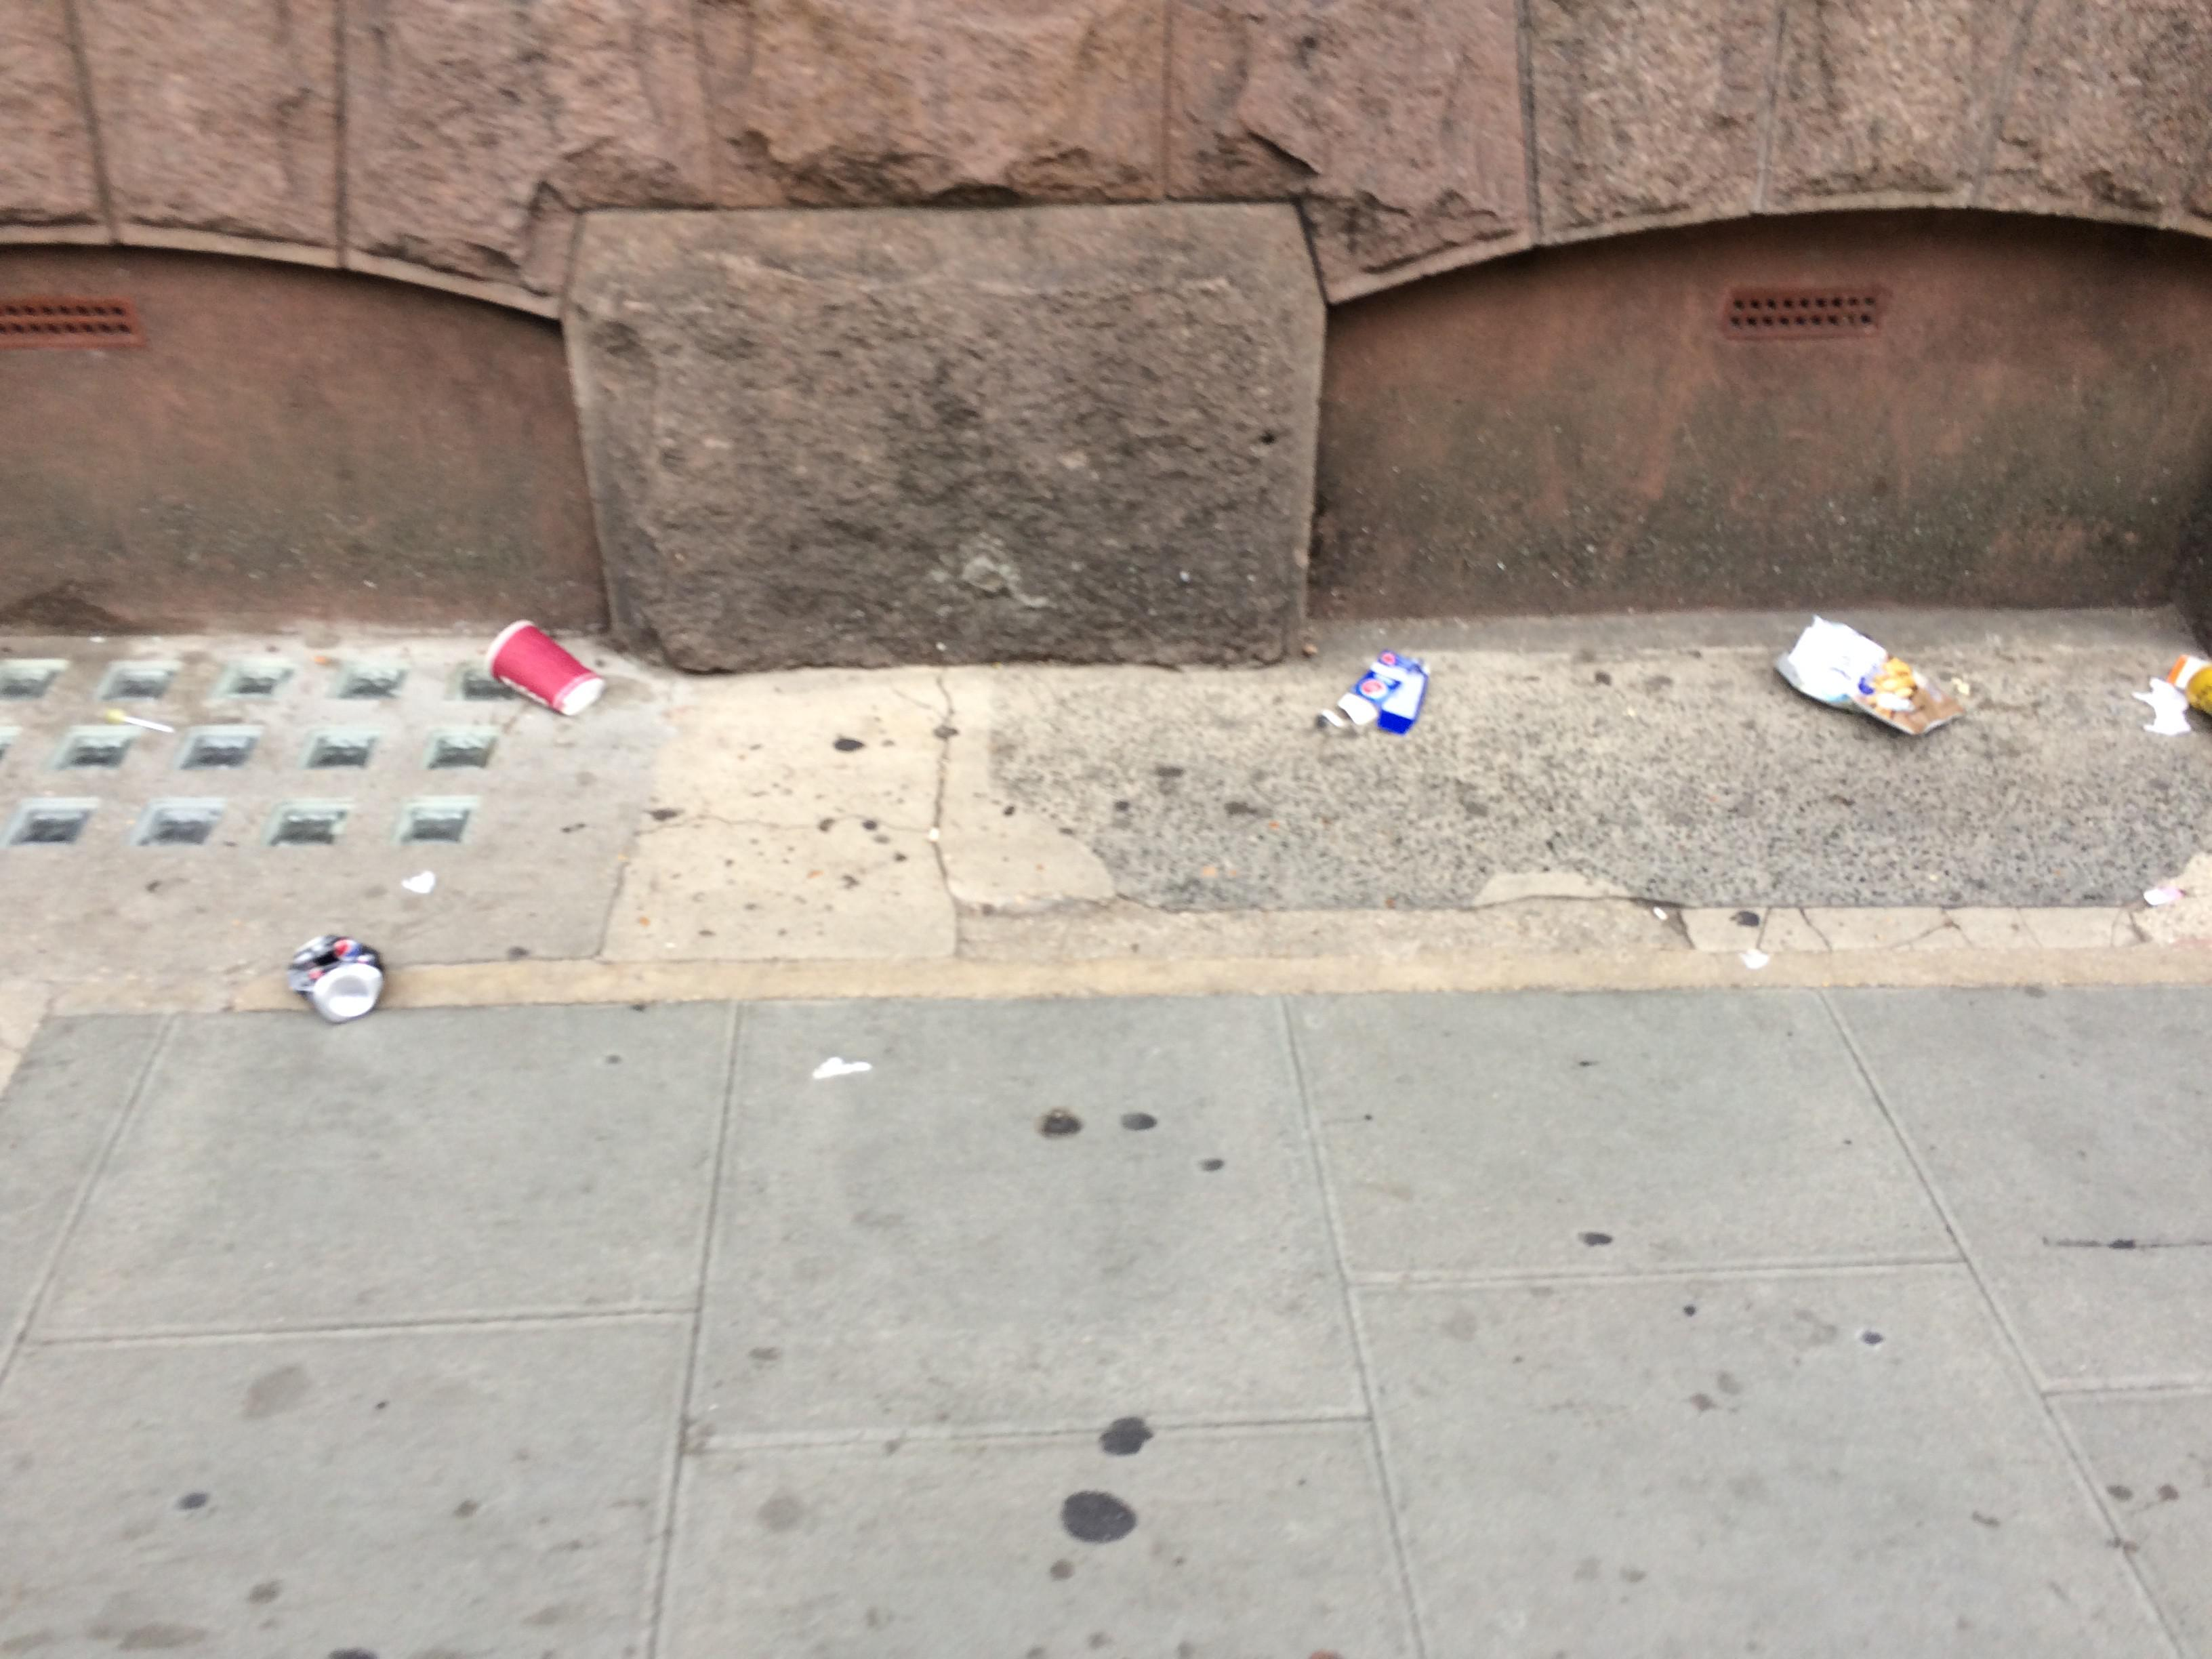Trash: (1778, 606, 1961, 739), (477, 610, 613, 721), (1308, 634, 1430, 748), (277, 929, 385, 1018), (2160, 643, 2212, 730)
